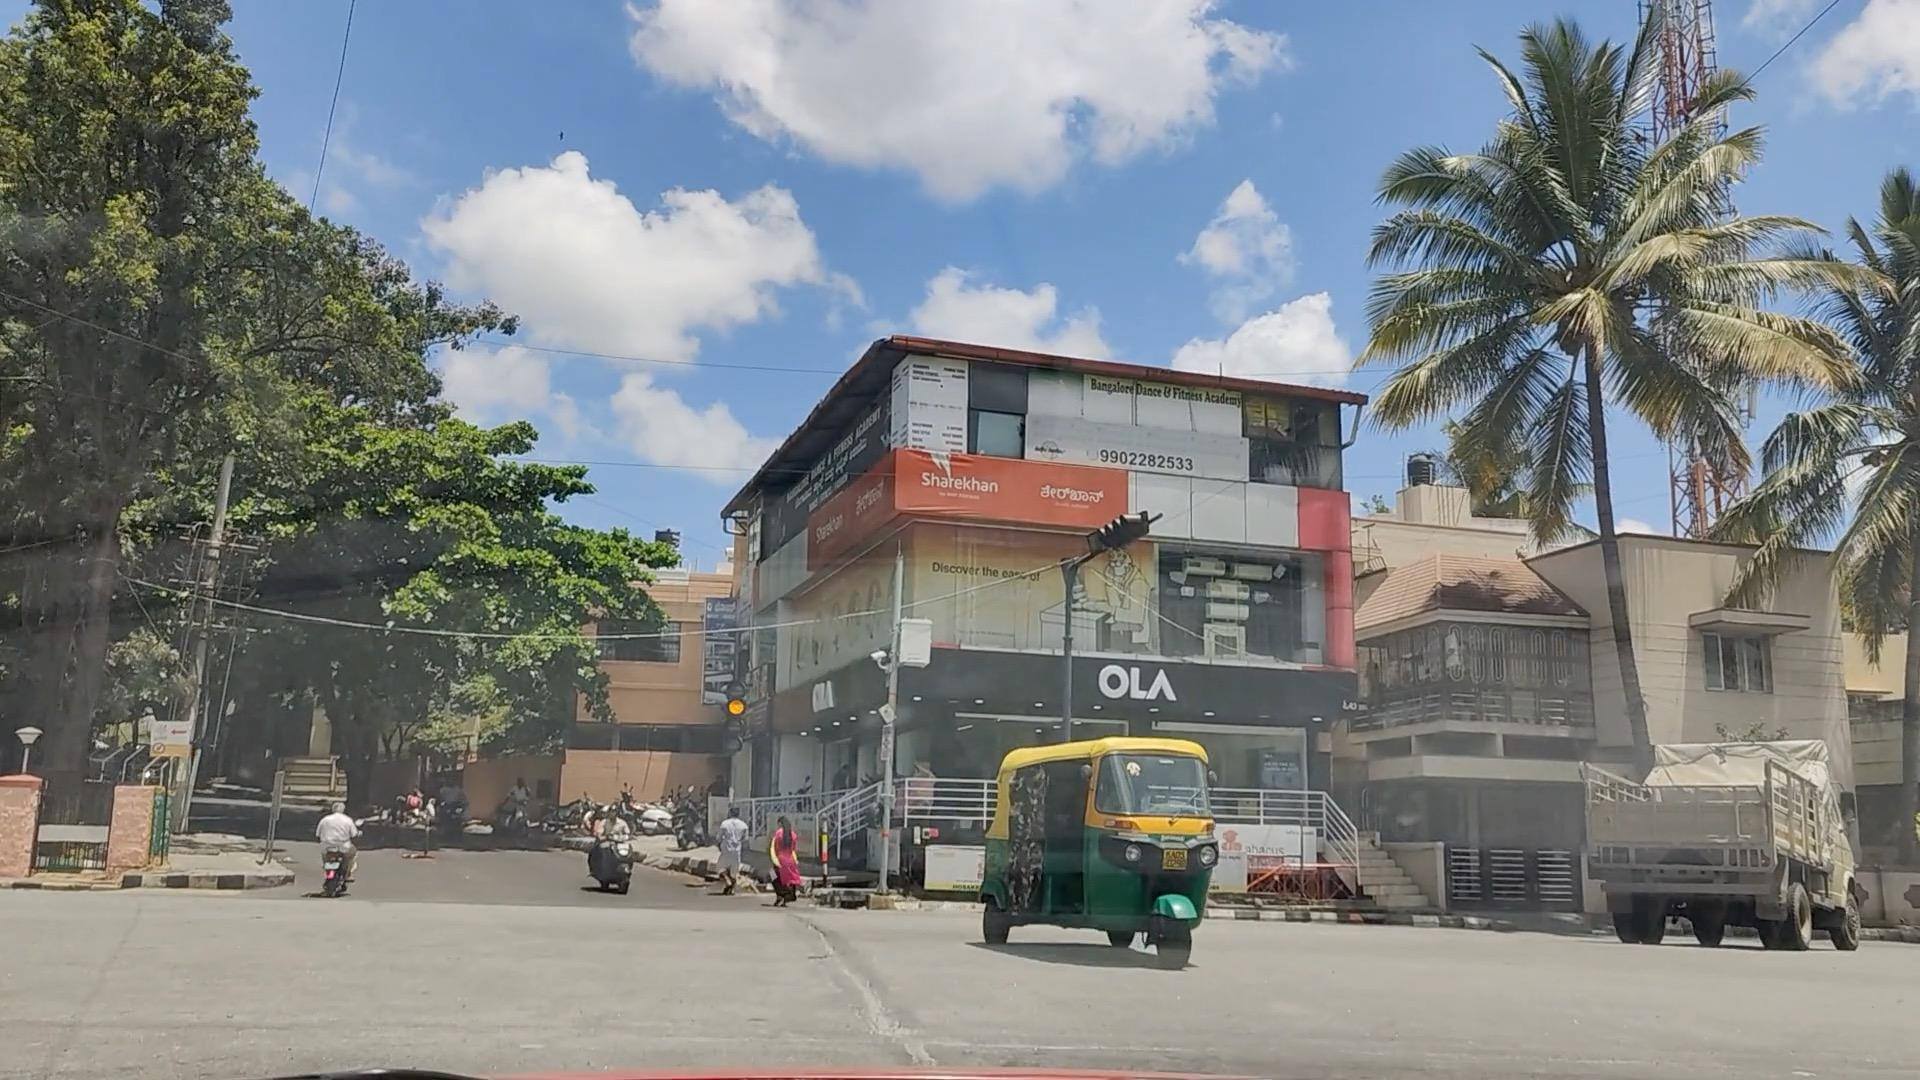HMV: (1586, 737, 1821, 930)
LMV: (981, 744, 1211, 936)
RoadDamages: (783, 886, 939, 1072)
